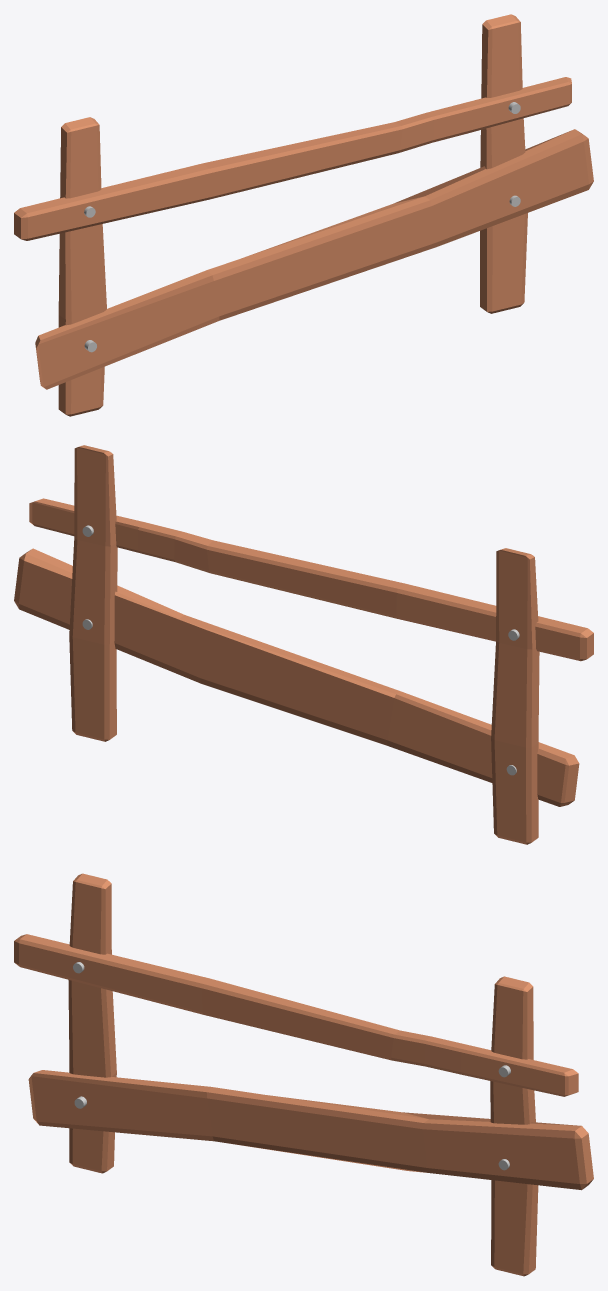
The model's file is Blender_fence_v4.fbx.
3 renders of one model, top to bottom at view 1: azimuth 30°, elevation 25°; view 2: azimuth 150°, elevation 25°; view 3: azimuth 330°, elevation 25°, orthographic.
Parts seen in each view (by area): view 1: Fence.003; view 2: Fence.003; view 3: Fence.003.
Boxes of the visible parts, x1,y1,x2,y2 form: Fence.003: (14,14,593,416); Fence.003: (14,445,593,844); Fence.003: (14,873,593,1276).
Bounding box in the file's own units: 470 × 226 × 24.76.
